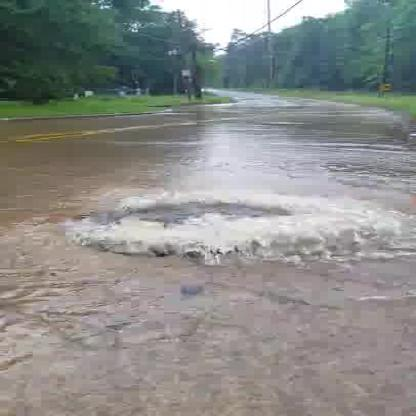drainage overflow-repair-: (86, 192, 312, 254)
